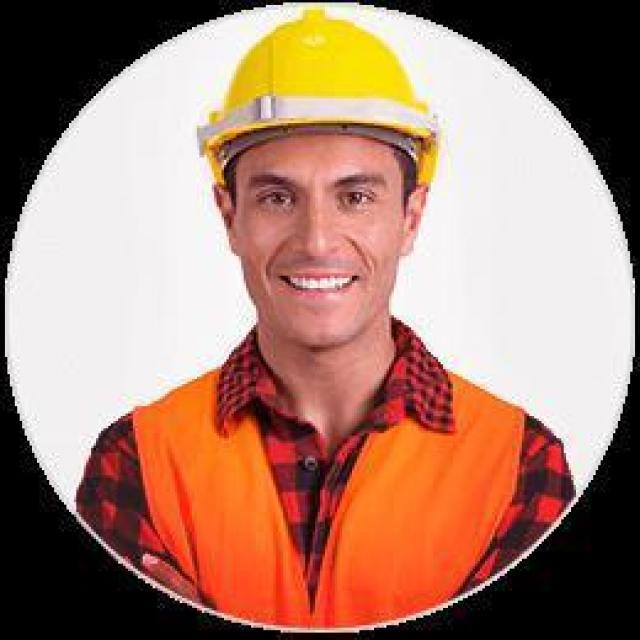hat: (194, 5, 440, 182)
